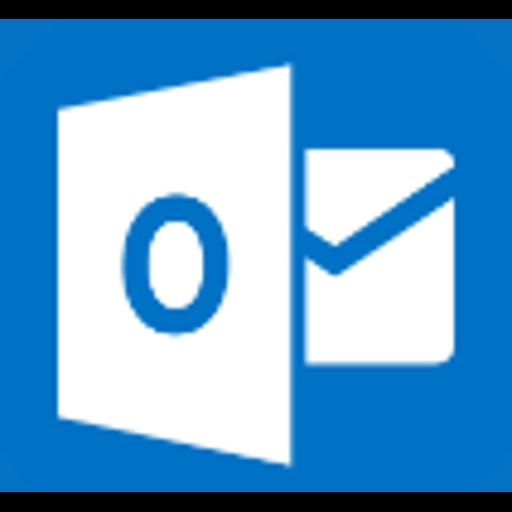Outlook: (0, 19, 512, 492)
